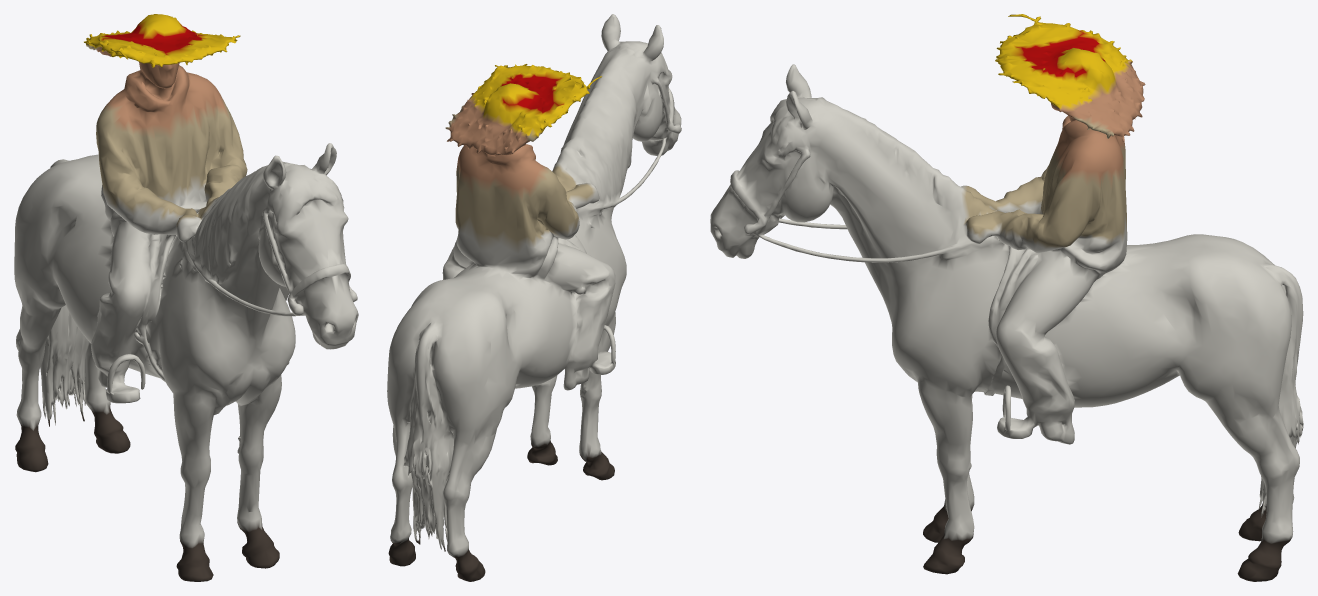
File: horse_white.glb
3 views of the same model, side by side, from view 1: azimuth 30°, elevation 25°; view 2: azimuth 150°, elevation 25°; view 3: azimuth 270°, elevation 25° (orthographic). The views are drawn at different scales.
Visible parts, largest first — view 1: tripo_node_960188ef-a850-4df5-bb49-f3a7d85b7604; view 2: tripo_node_960188ef-a850-4df5-bb49-f3a7d85b7604; view 3: tripo_node_960188ef-a850-4df5-bb49-f3a7d85b7604.
Boxes of the visible parts, x1=… form: tripo_node_960188ef-a850-4df5-bb49-f3a7d85b7604: x1=14, y1=14, x2=358, y2=581; tripo_node_960188ef-a850-4df5-bb49-f3a7d85b7604: x1=387, y1=14, x2=681, y2=581; tripo_node_960188ef-a850-4df5-bb49-f3a7d85b7604: x1=710, y1=14, x2=1303, y2=581.
Bounding box in the file's own units: 0.3679 × 0.9485 × 0.9997.
